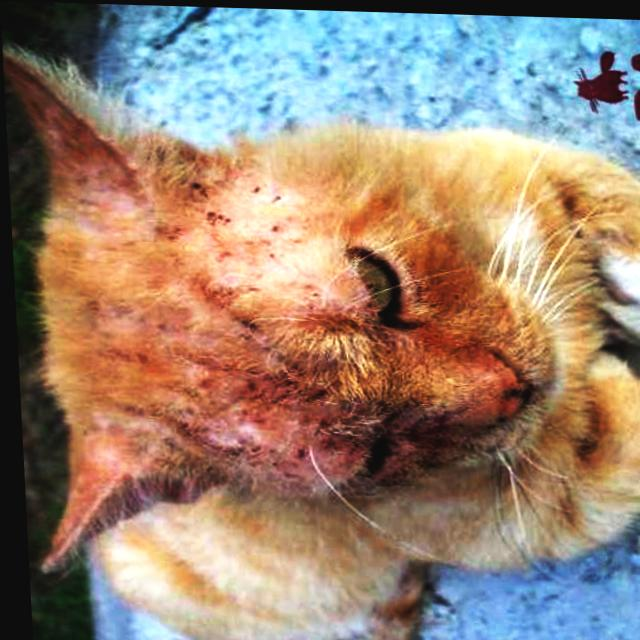ringworm: (236, 372, 349, 447), (383, 409, 491, 482)
